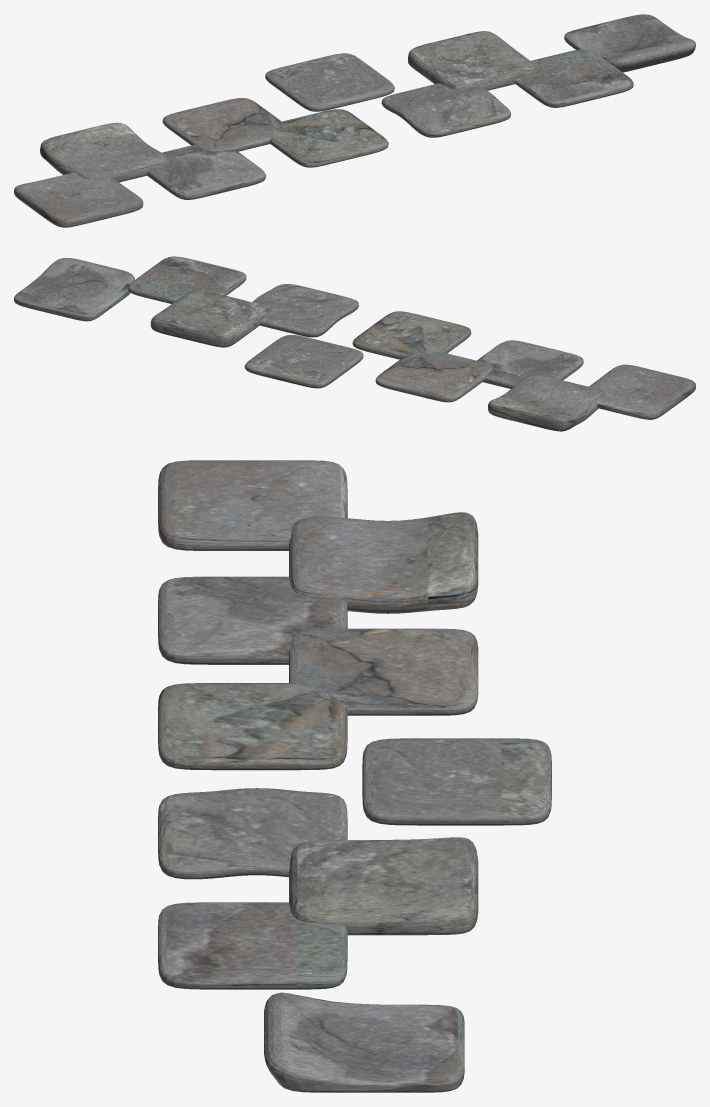
The model's file is Dalle en Pierre.fbx.
3 renders of one model, top to bottom at view 1: azimuth 30°, elevation 25°; view 2: azimuth 150°, elevation 25°; view 3: azimuth 270°, elevation 25°, orthographic. The views are drawn at different scales.
Visible parts, largest first — view 1: Cube.003; view 2: Cube.003; view 3: Cube.003.
Part boxes in pixels (x1,y1,x2,y2): Cube.003: (14, 14, 695, 227); Cube.003: (14, 256, 695, 431); Cube.003: (158, 460, 551, 1092).
Size of the model in its own units: 272 by 10.66 by 75.27.
